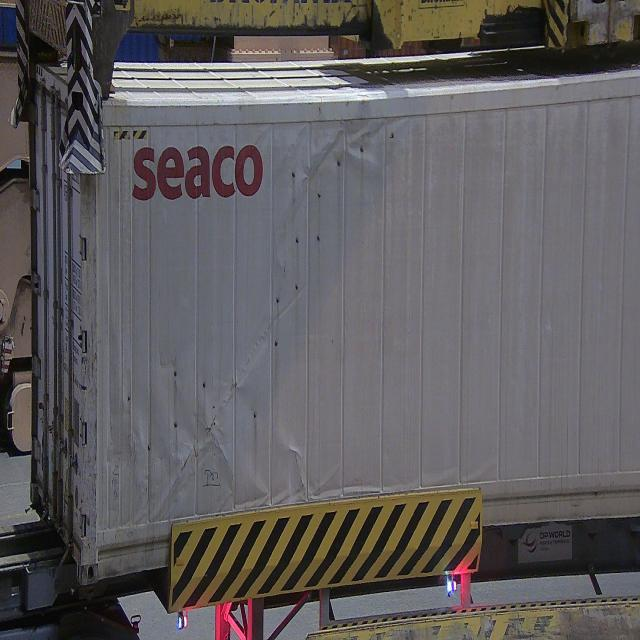dent: (117, 359, 263, 452), (281, 118, 405, 221), (273, 236, 327, 355)
